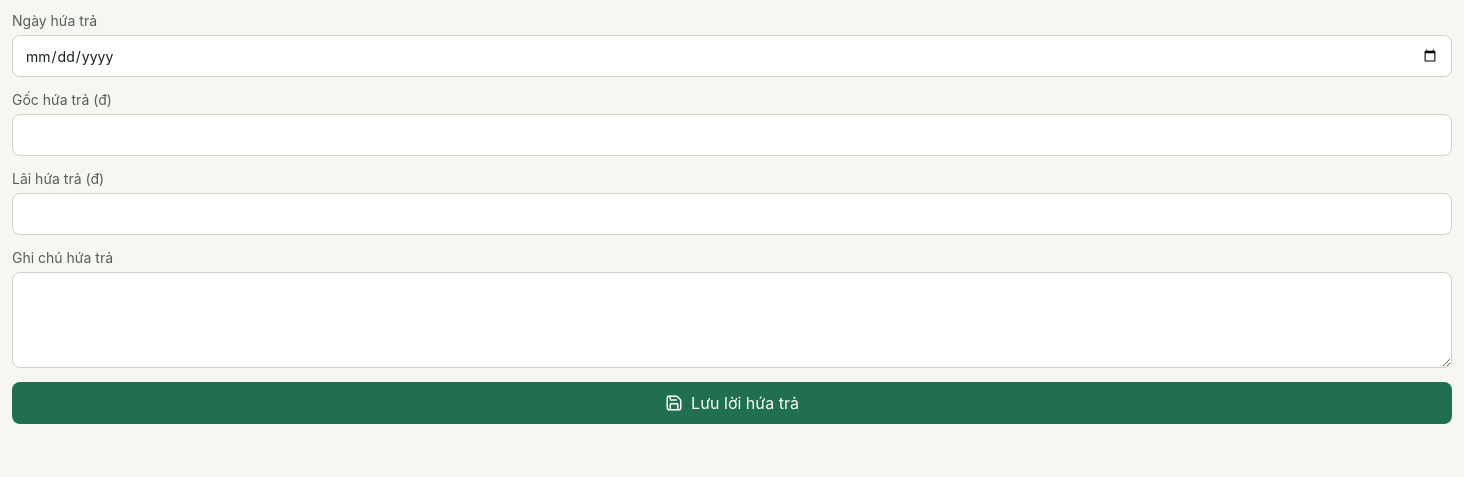
Test: PromiseForm › requires a promised date and note
This screenshot has width=1464, height=477.
Click the button "Lưu lời hứa trả". click: [732, 403]
box: [12,382,1452,424]
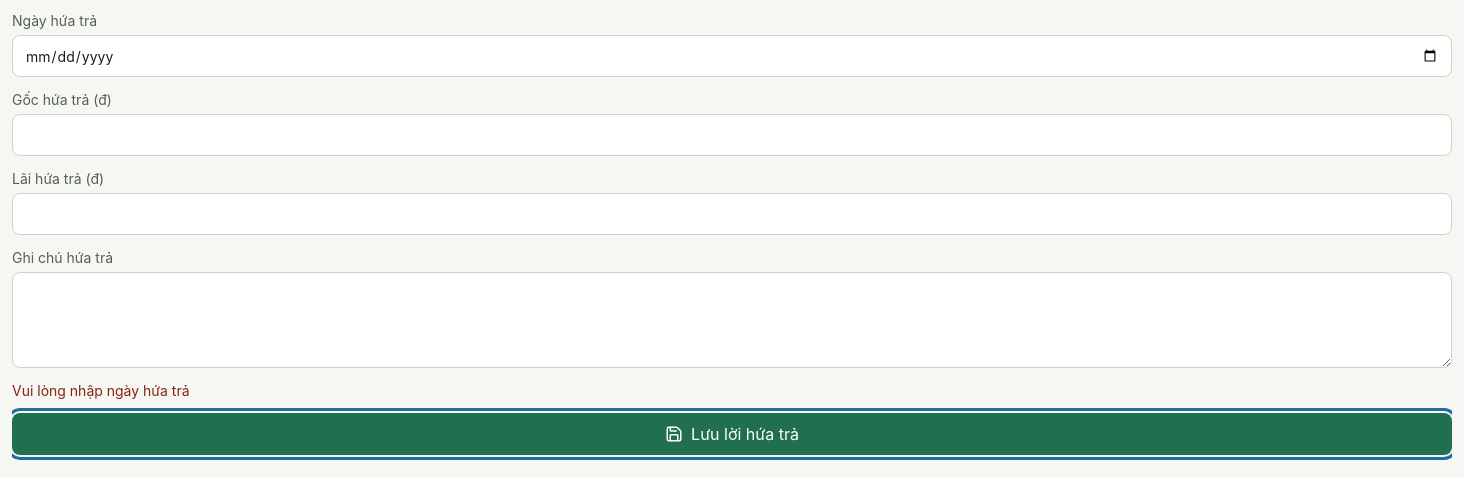
expect the message reads "Vui lòng nhập ngày hứa trả": met, box [12,382,190,399]
Type "2026-08-12" into the date field labelled "Ngày hứa trả". click: [732, 56]
box: [12,35,1452,77]
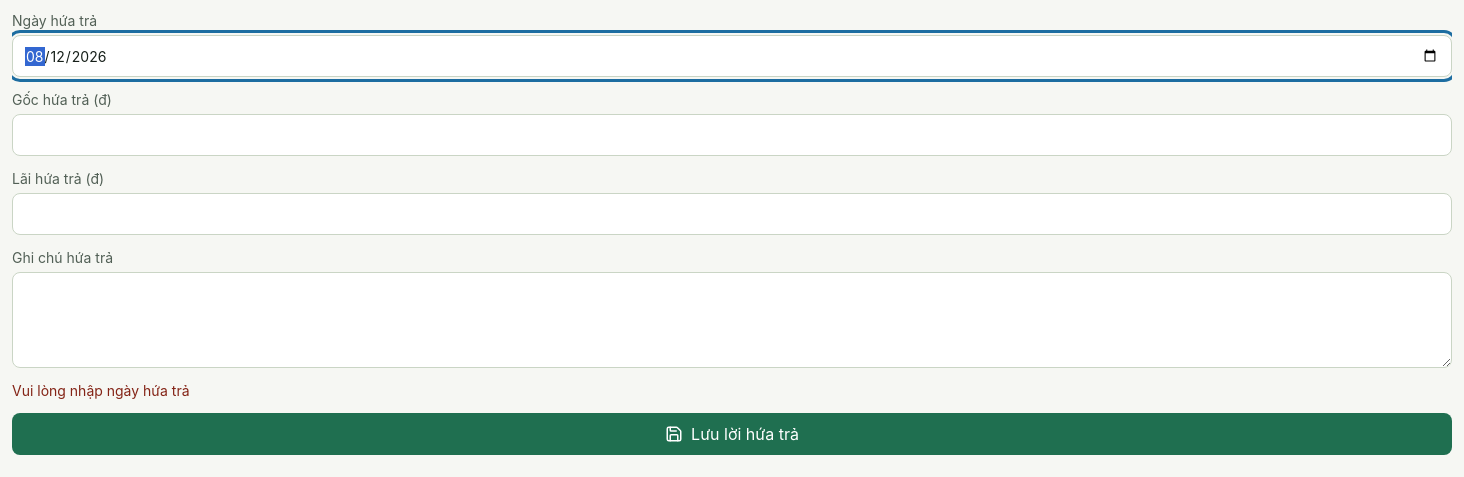
Click the button "Lưu lời hứa trả". click: [732, 434]
box: [12,413,1452,455]
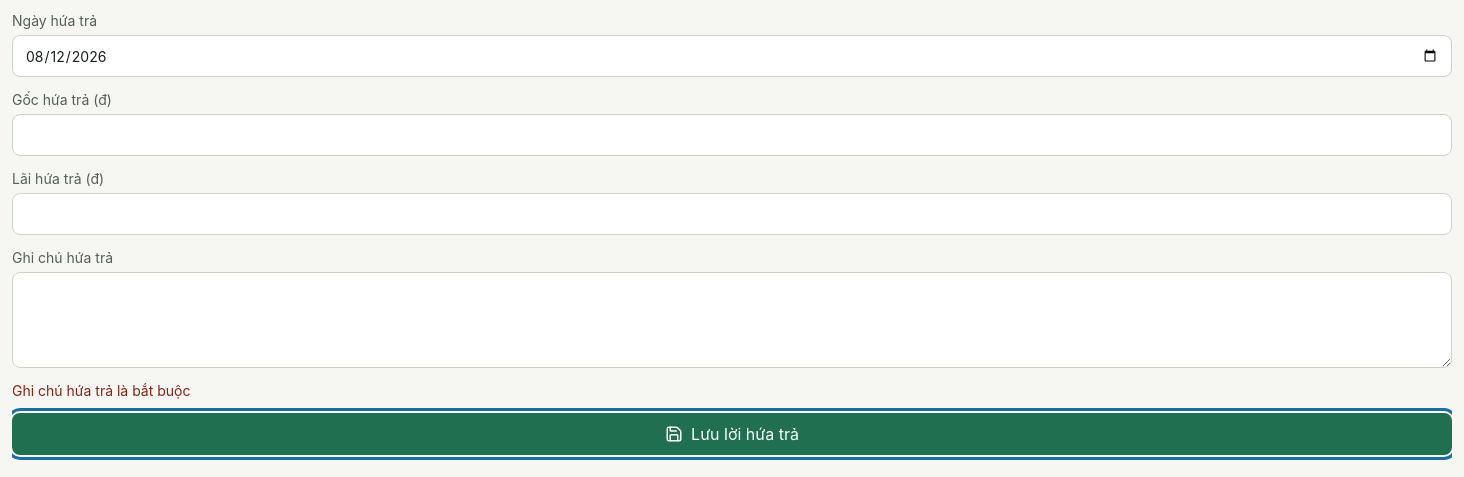
expect the message reads "Ghi chú hứa trả là bắt buộc": met, box [12,382,190,399]
